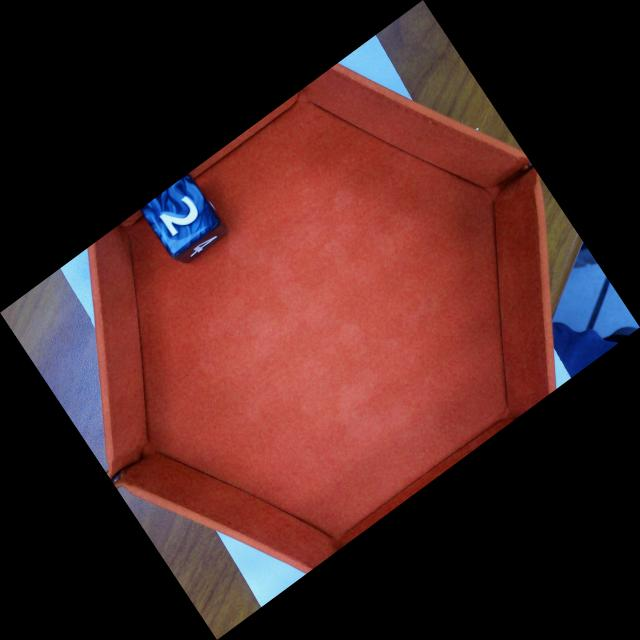dice: (139, 172, 223, 262)
